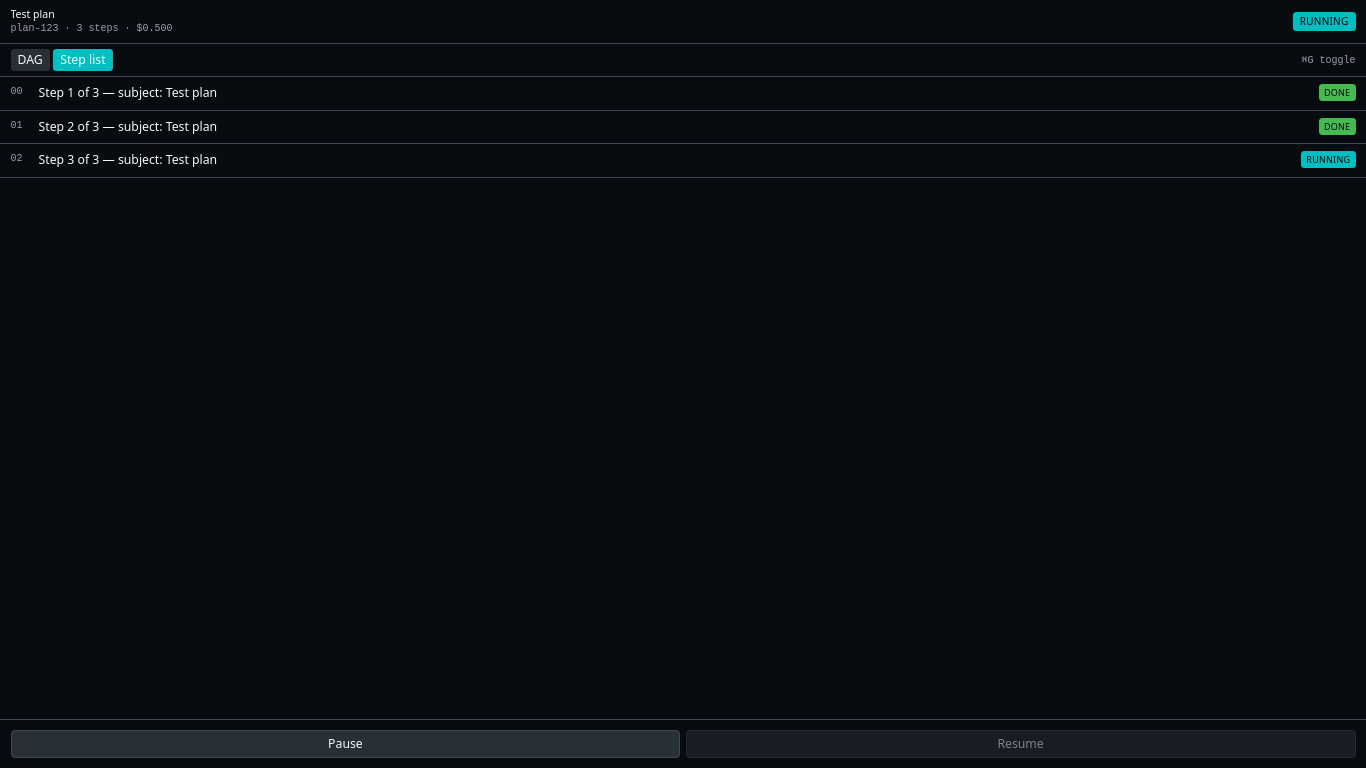
Test: PlanWorkSurface › shows ErrorState on kernel error
Click the button "Pause".
click(345, 744)  # box [10, 730, 680, 758]
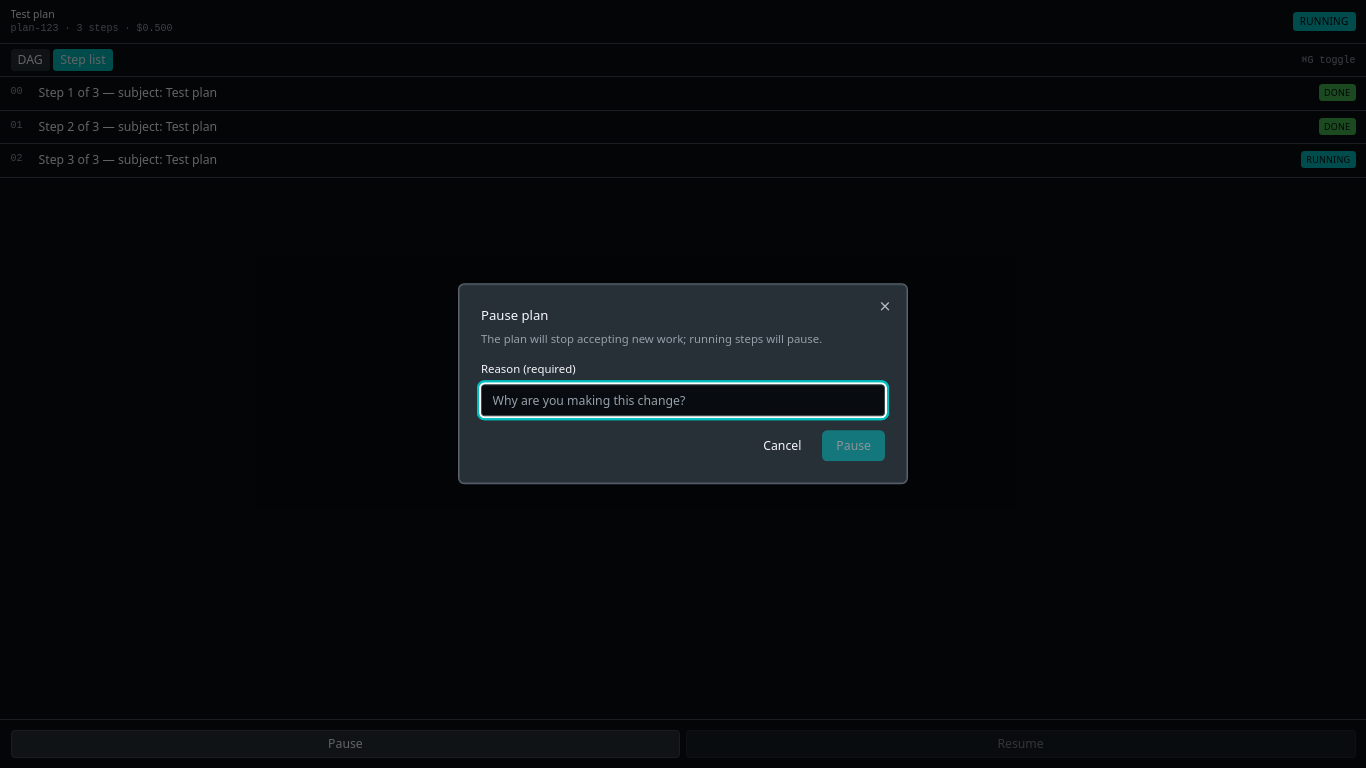
expect the dialog is shown: met, box [459, 284, 907, 484]
Type "testing pause" into the field labelled "Reason (required)".
click(683, 400); type("testing pause")  # box [481, 385, 885, 416]
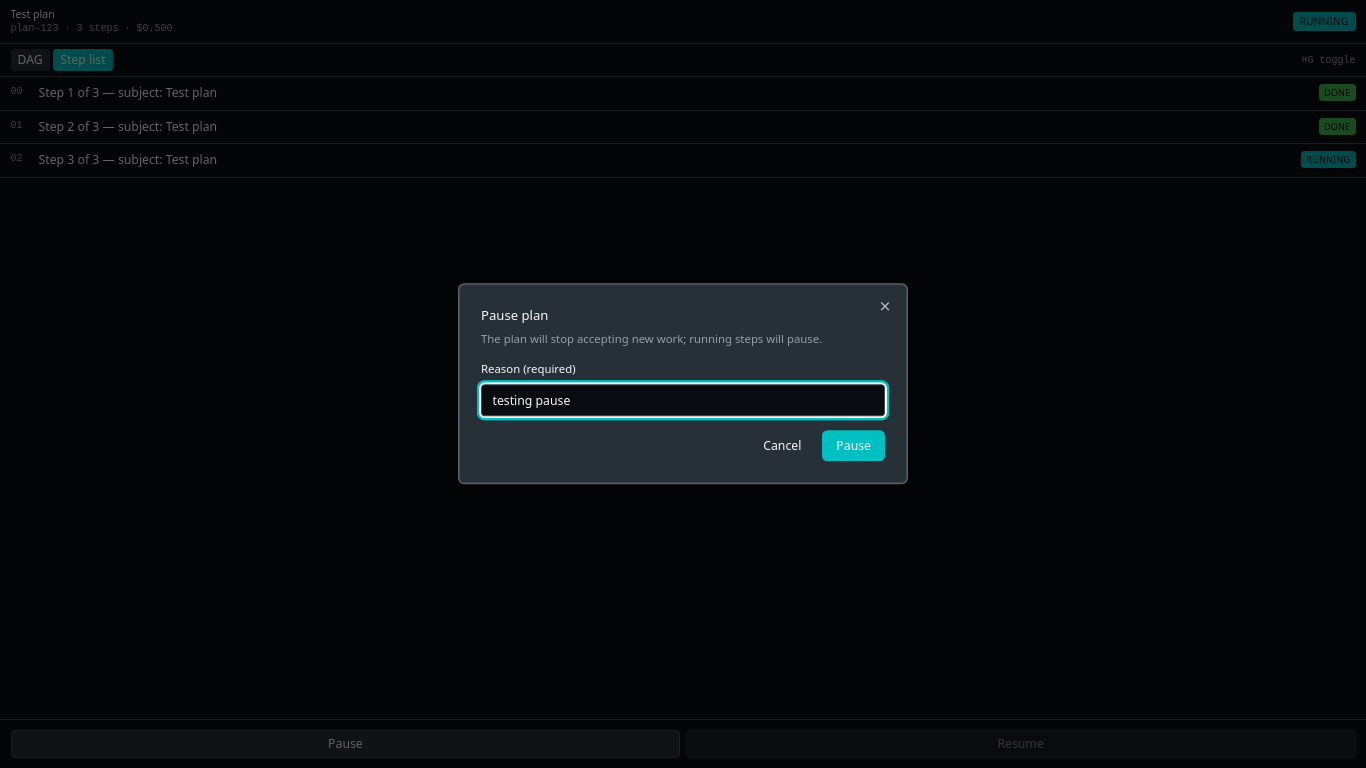
Click the button "Pause".
click(854, 446)  # box [822, 430, 885, 462]
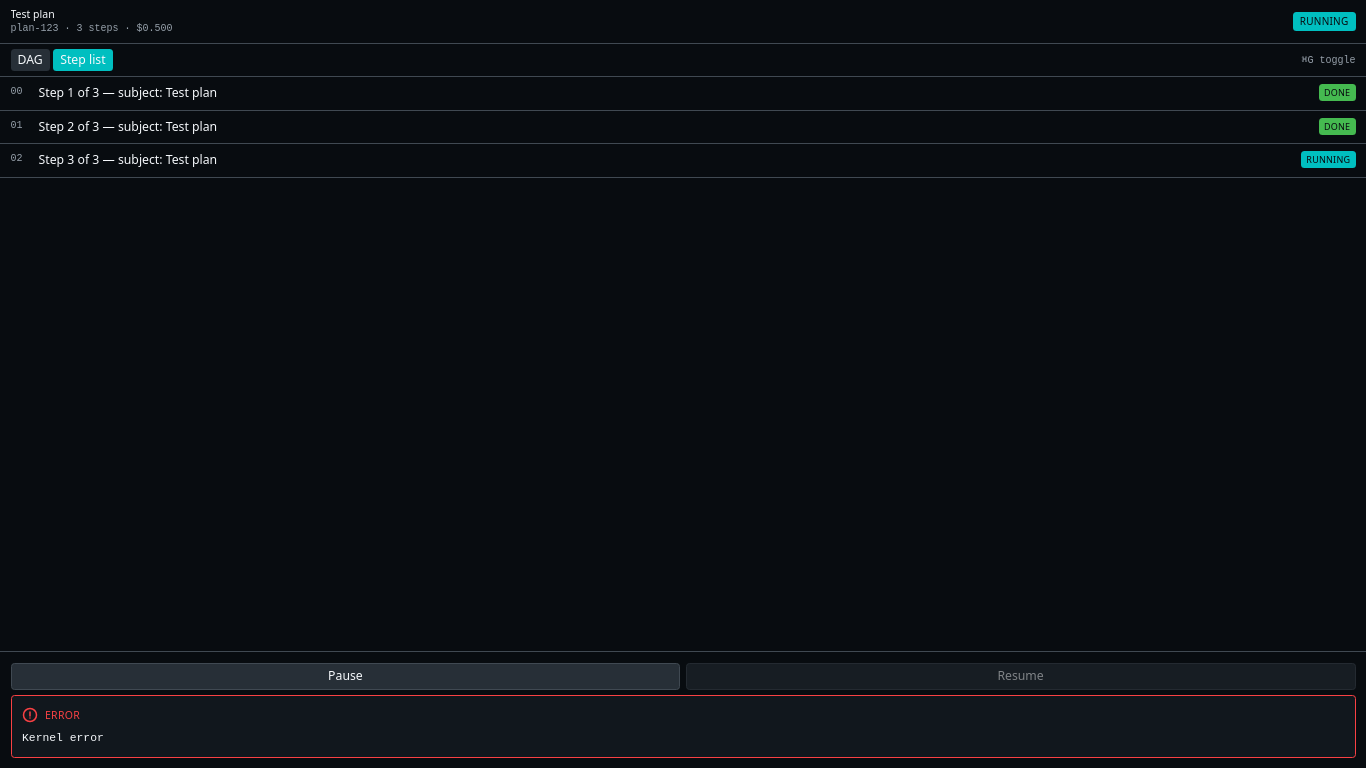
expect the message shows "Kernel error": met, box [22, 732, 104, 744]
